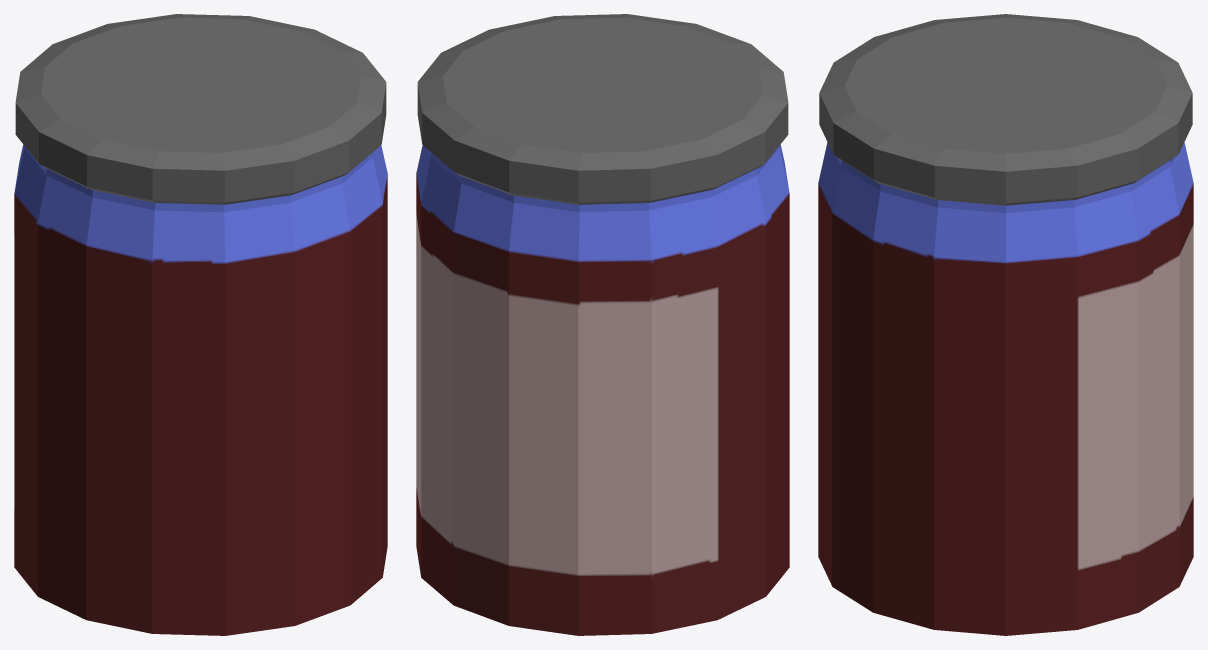
The model's file is Marmellata.fbx.
3 views of the same model, side by side, from view 1: azimuth 30°, elevation 25°; view 2: azimuth 150°, elevation 25°; view 3: azimuth 270°, elevation 25° (orthographic).
Visible parts, largest first — view 1: Cylinder.002; view 2: Cylinder.002; view 3: Cylinder.002.
Boxes of the visible parts, x1=… form: Cylinder.002: x1=14, y1=14, x2=387, y2=635; Cylinder.002: x1=416, y1=14, x2=789, y2=635; Cylinder.002: x1=818, y1=14, x2=1193, y2=635.
Bounding box in the file's own units: 139 × 192 × 139.
